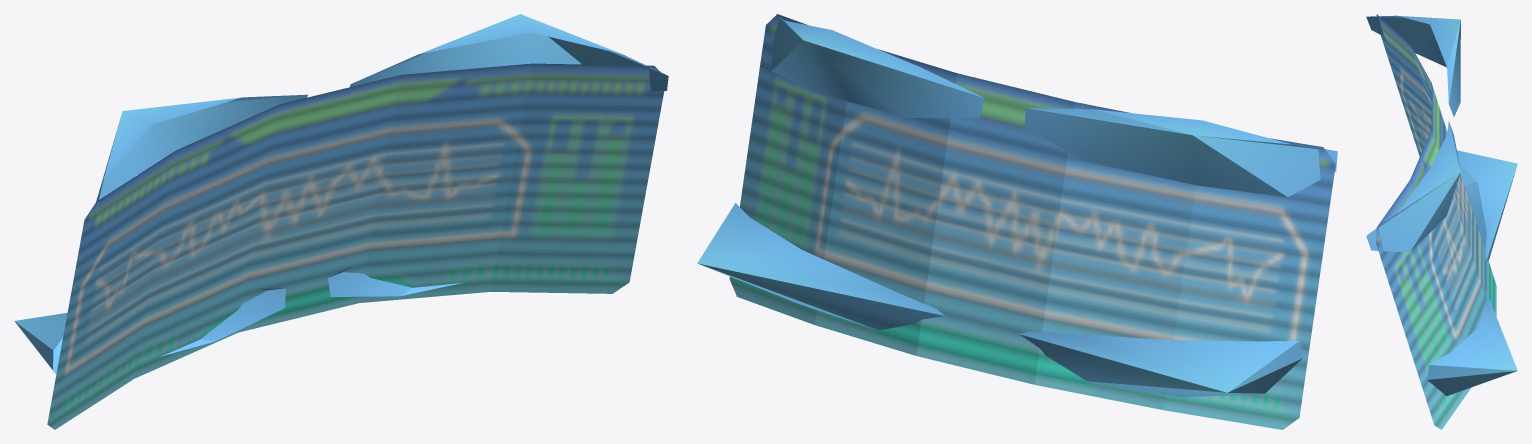
Rendered from Terminal_011_monitor_004.fbx.
The picture shows the model from 3 angles, left to right: view 1: azimuth 30°, elevation 25°; view 2: azimuth 150°, elevation 25°; view 3: azimuth 270°, elevation 25°; orthographic projection. The views are drawn at different scales.
Parts seen in each view (by area): view 1: Terminal_011_monitor_004; view 2: Terminal_011_monitor_004; view 3: Terminal_011_monitor_004.
Part boxes in pixels (left/top/right/bottom): Terminal_011_monitor_004: left=14, top=14, right=668, bottom=429; Terminal_011_monitor_004: left=697, top=14, right=1337, bottom=429; Terminal_011_monitor_004: left=1366, top=14, right=1517, bottom=429.
Bounding box in the file's own units: 180 × 51.94 × 86.02.
